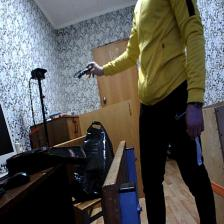drone: (73, 60, 98, 79)
